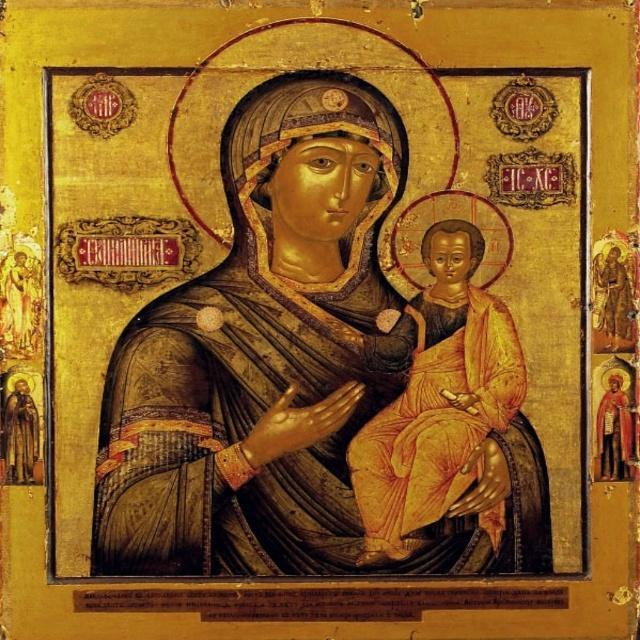aura: (167, 16, 462, 283), (390, 193, 515, 298), (6, 370, 39, 398), (598, 239, 629, 264), (601, 369, 631, 392), (8, 244, 31, 267)
christ_child: (394, 189, 516, 561)
christ_hand: (322, 316, 391, 363)
mary: (158, 67, 404, 586)
mary_and_child: (91, 16, 554, 575)
saint: (591, 238, 636, 355), (1, 242, 42, 360), (596, 366, 634, 481), (6, 368, 42, 488)
scroll: (432, 387, 485, 418)
